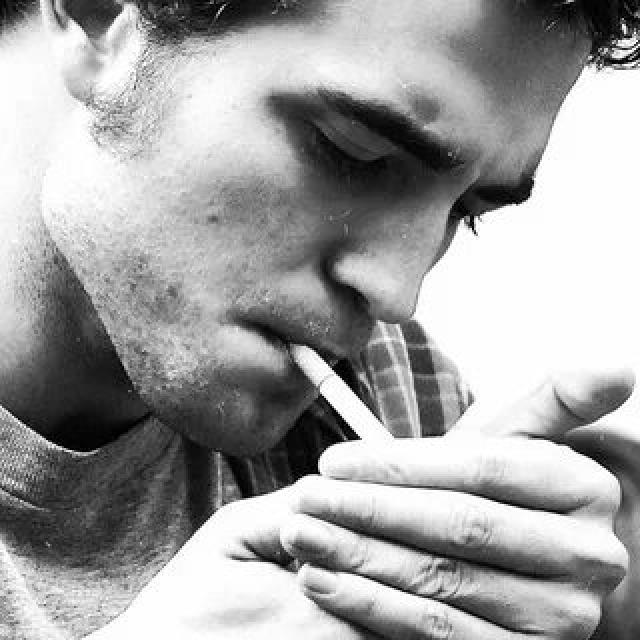cigarette: (276, 330, 406, 454)
